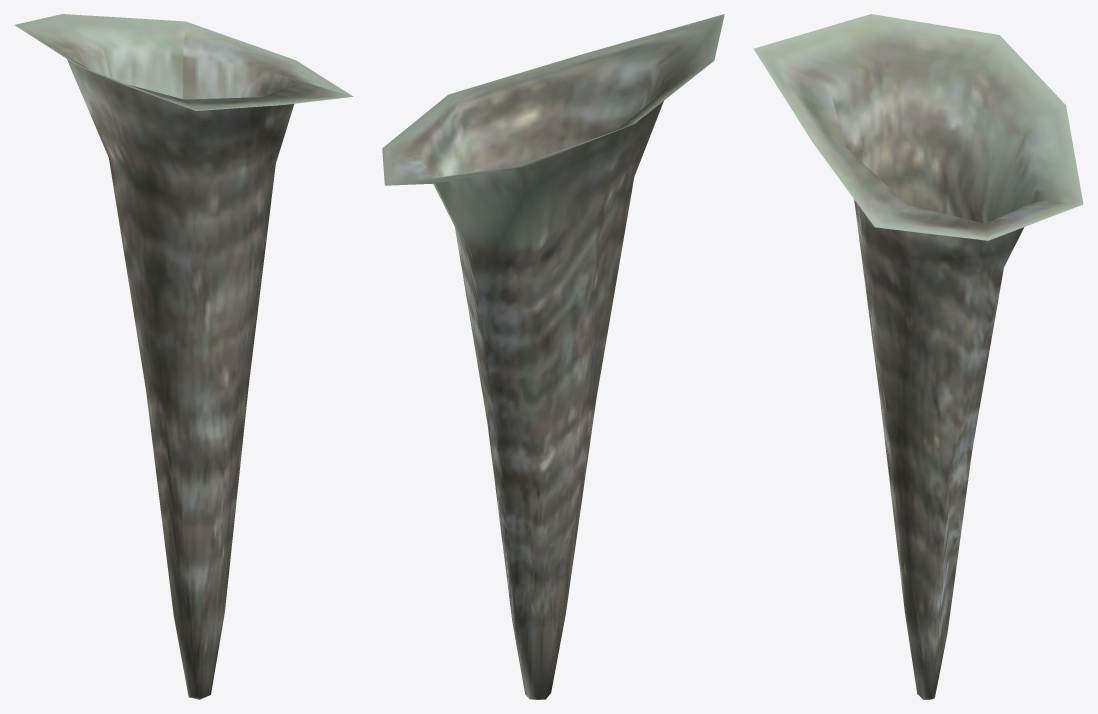
The model's file is TROLLHOLE02_PS-UPPERSTALAG09.fbx.
The picture shows the model from 3 angles, left to right: view 1: azimuth 30°, elevation 25°; view 2: azimuth 150°, elevation 25°; view 3: azimuth 270°, elevation 25°; orthographic projection. The views are drawn at different scales.
Parts seen in each view (by area): view 1: TROLLHOLE02_PS-UPPERSTALAG09; view 2: TROLLHOLE02_PS-UPPERSTALAG09; view 3: TROLLHOLE02_PS-UPPERSTALAG09.
Part boxes in pixels (<box>): TROLLHOLE02_PS-UPPERSTALAG09: <box>14,14,353,699</box>; TROLLHOLE02_PS-UPPERSTALAG09: <box>382,14,724,699</box>; TROLLHOLE02_PS-UPPERSTALAG09: <box>754,14,1083,699</box>.
Bounding box in the file's own units: 12613 × 29160 × 14124.
Materials: 1 (1 with a texture image).
